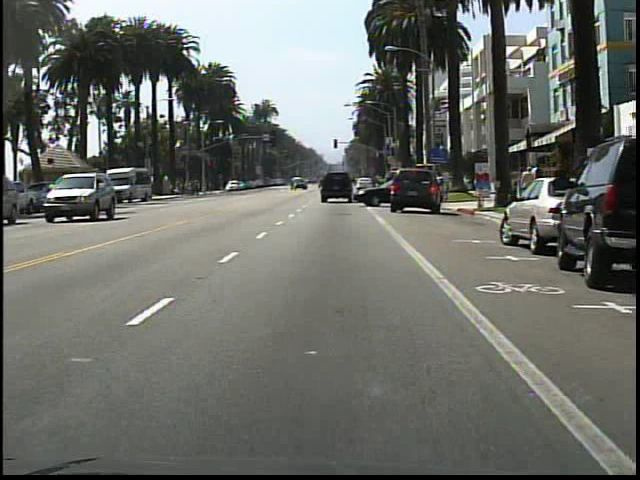person: (369, 170, 385, 204), (533, 161, 546, 202), (519, 163, 534, 189)
